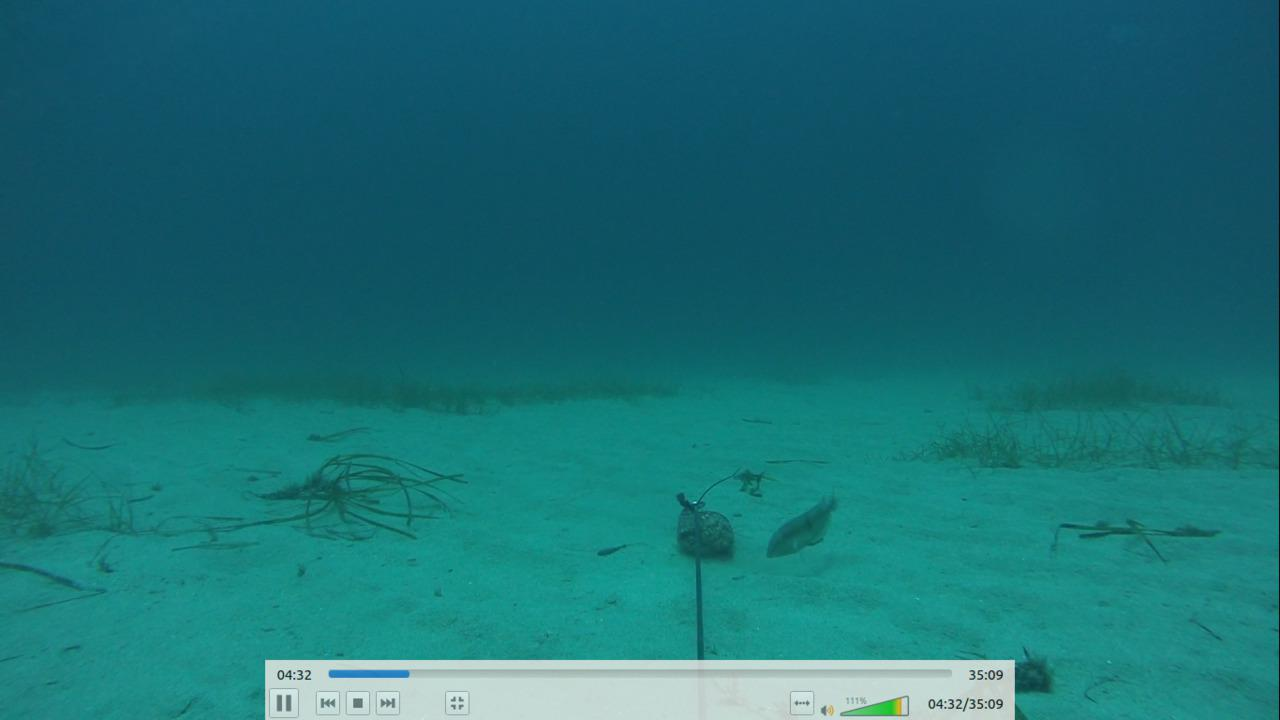raor: (762, 493, 842, 563)
